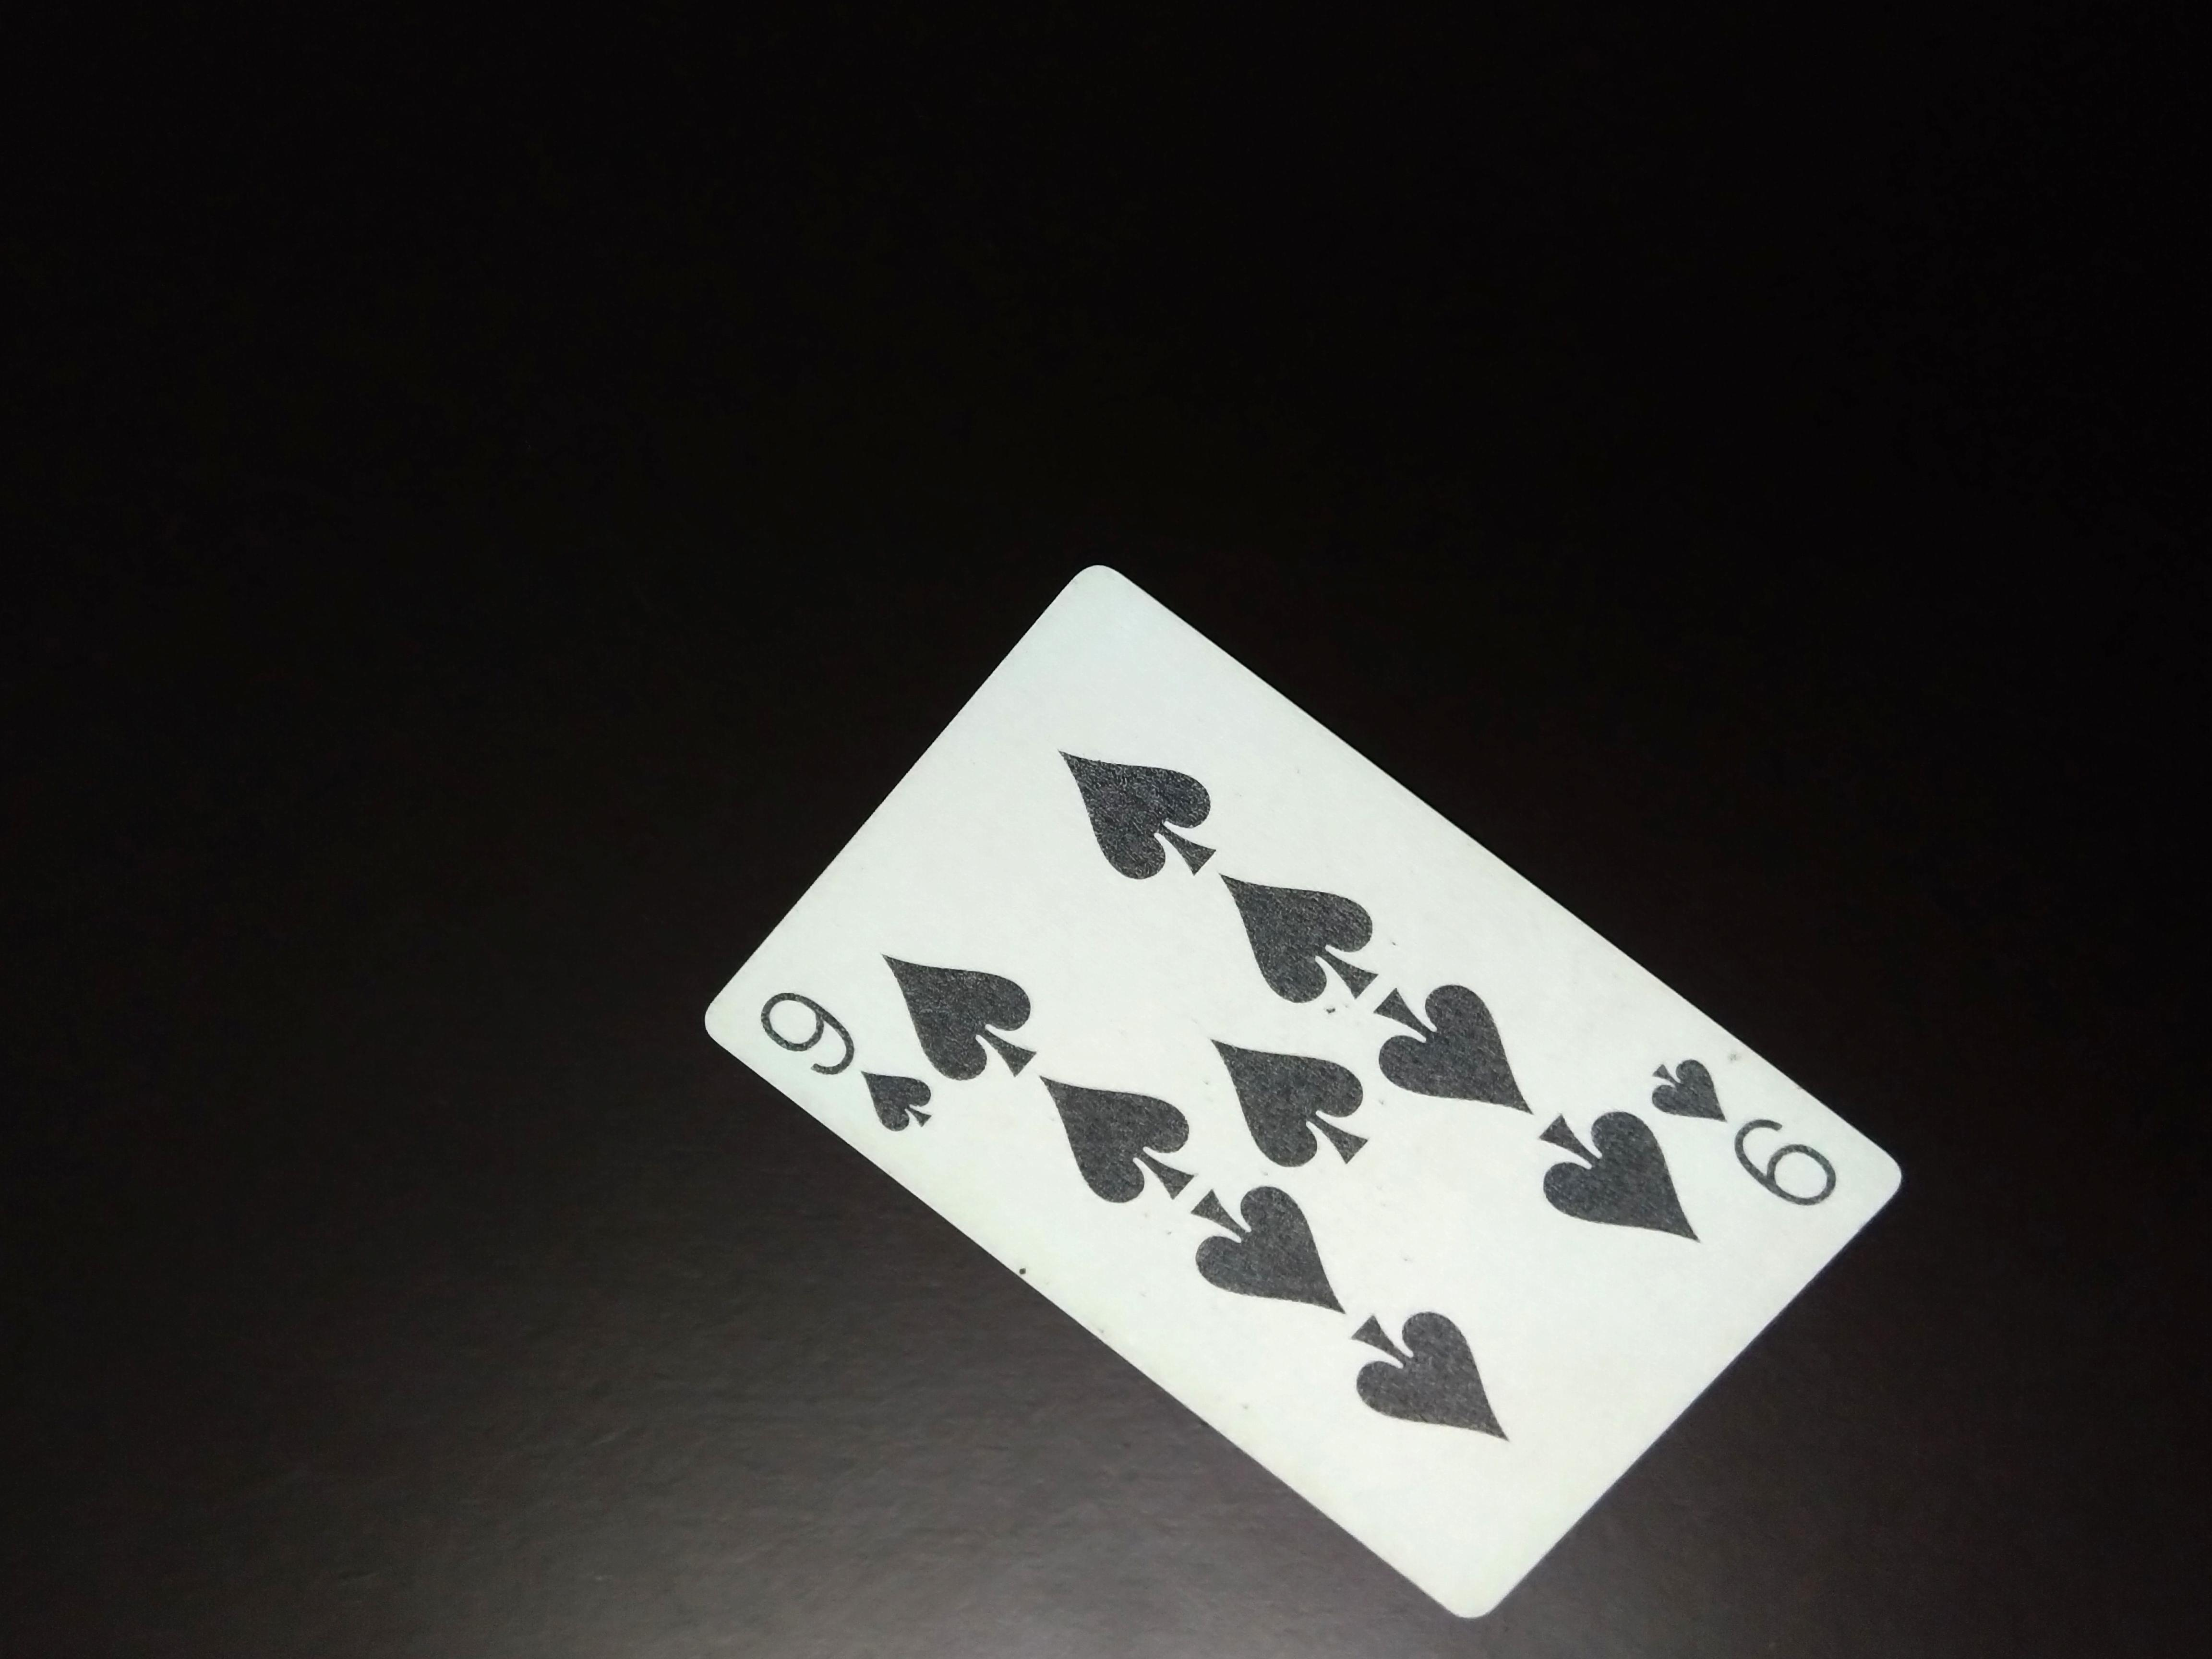9S: (1642, 1053, 1848, 1227)
